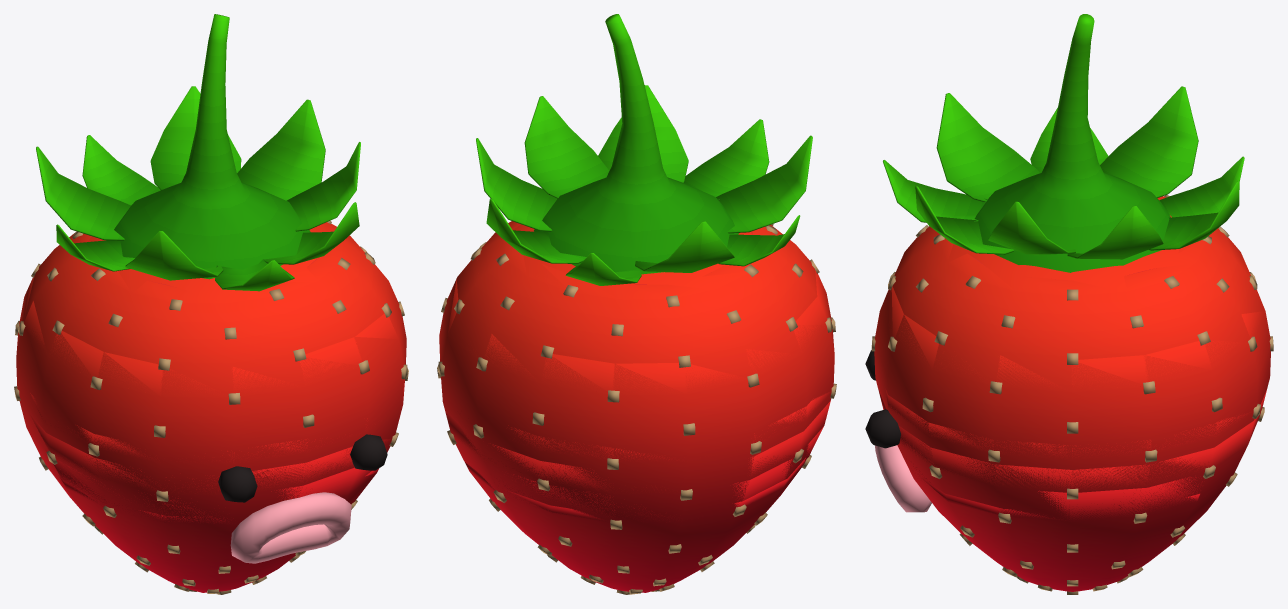
The model's file is ENEMY_Strawberry.fbx.
3 views of the same model, side by side, from view 1: azimuth 30°, elevation 25°; view 2: azimuth 150°, elevation 25°; view 3: azimuth 270°, elevation 25° (orthographic). The views are drawn at different scales.
Parts seen in each view (by area): view 1: ENEMY_Strawberry_01, ENEMY_Strawberry_00, ENEMY_Strawberry_03, Strawberry_Mouth, ENEMY_Strawberry_07, ENEMY_Strawberry_08, Strawberry_SphereEyes, ENEMY_Strawberry_06; view 2: ENEMY_Strawberry_01, ENEMY_Strawberry_00, ENEMY_Strawberry_03, ENEMY_Strawberry_07, ENEMY_Strawberry_08, ENEMY_Strawberry_06, ENEMY_Strawberry_09; view 3: ENEMY_Strawberry_01, ENEMY_Strawberry_00, ENEMY_Strawberry_07, ENEMY_Strawberry_03, ENEMY_Strawberry_08, ENEMY_Strawberry_06, Strawberry_Mouth, Strawberry_SphereEyes, ENEMY_Strawberry_09.
Part boxes in pixels (x1,y1,x2,y2): ENEMY_Strawberry_01: [14, 221, 408, 594]; ENEMY_Strawberry_00: [36, 14, 360, 305]; ENEMY_Strawberry_03: [22, 276, 399, 397]; Strawberry_Mouth: [230, 492, 351, 563]; ENEMY_Strawberry_07: [28, 414, 391, 495]; ENEMY_Strawberry_08: [45, 450, 376, 524]; Strawberry_SphereEyes: [218, 434, 387, 502]; ENEMY_Strawberry_06: [25, 379, 404, 464]; ENEMY_Strawberry_01: [437, 221, 836, 594]; ENEMY_Strawberry_00: [476, 14, 812, 301]; ENEMY_Strawberry_03: [445, 270, 828, 395]; ENEMY_Strawberry_07: [445, 400, 830, 494]; ENEMY_Strawberry_08: [485, 426, 823, 523]; ENEMY_Strawberry_06: [440, 359, 831, 462]; ENEMY_Strawberry_09: [465, 458, 806, 523]; ENEMY_Strawberry_01: [871, 195, 1273, 594]; ENEMY_Strawberry_00: [883, 14, 1244, 294]; ENEMY_Strawberry_07: [878, 389, 1266, 492]; ENEMY_Strawberry_03: [881, 260, 1265, 392]; ENEMY_Strawberry_08: [909, 466, 1224, 521]; ENEMY_Strawberry_06: [885, 389, 1253, 460]; Strawberry_Mouth: [875, 445, 931, 512]; Strawberry_SphereEyes: [865, 350, 900, 448]; ENEMY_Strawberry_09: [920, 477, 1217, 521].
Size of the model in its own units: 2.68 by 4.28 by 2.74.
